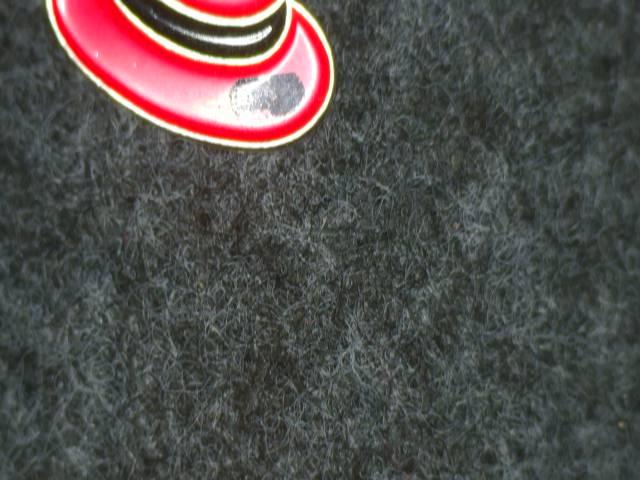Red-Hat: (30, 0, 360, 188)
Scratch: (220, 55, 309, 140)
